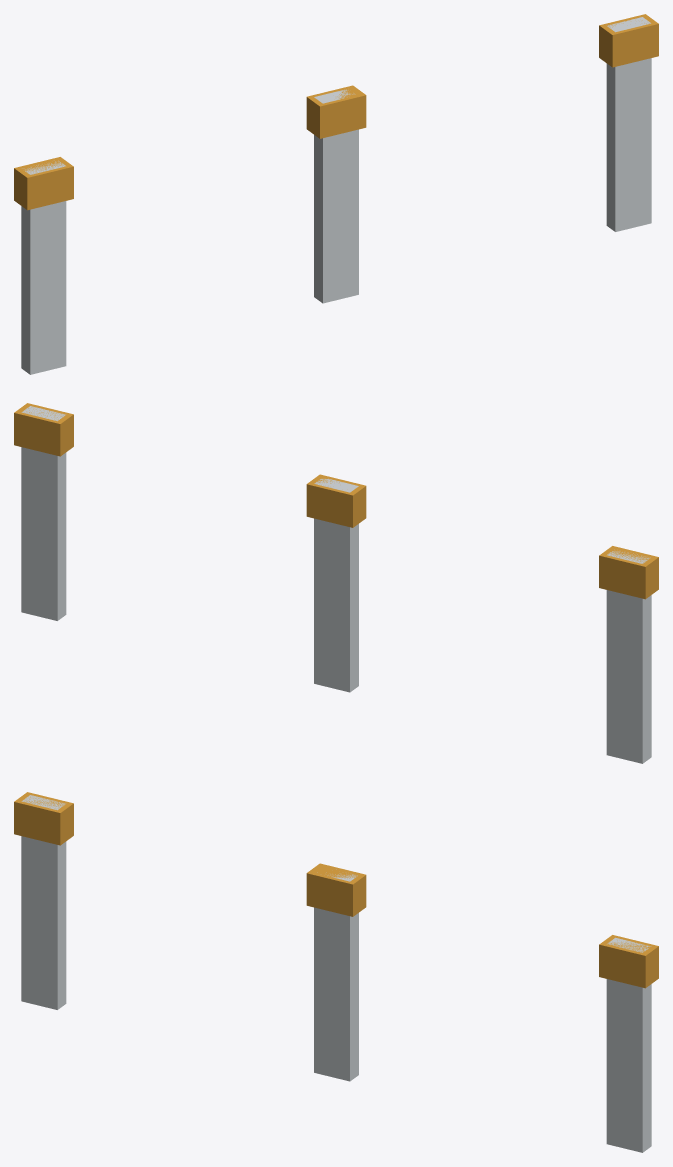
The model's file is body.obj.
The picture shows the model from 3 angles, top to bottom: view 1: azimuth 30°, elevation 25°; view 2: azimuth 150°, elevation 25°; view 3: azimuth 330°, elevation 25°; orthographic projection.
Size of the model in its own units: 2.45 by 0.74 by 0.09.
